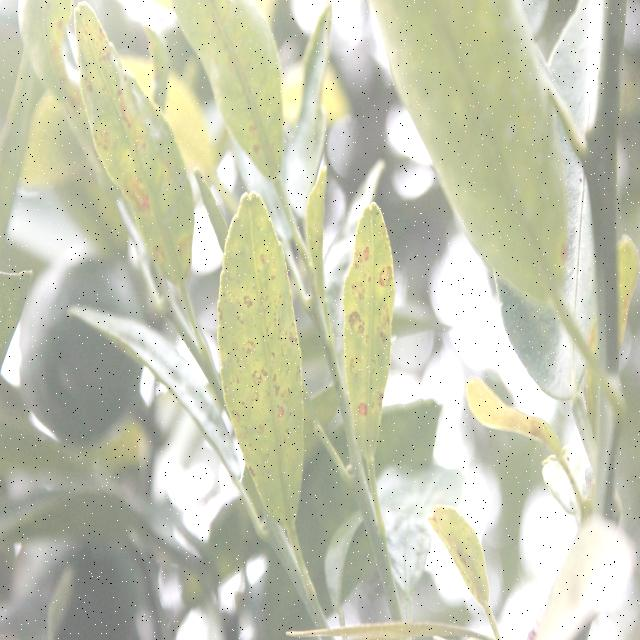canker: (74, 34, 201, 313), (220, 223, 312, 510), (338, 232, 398, 475)
